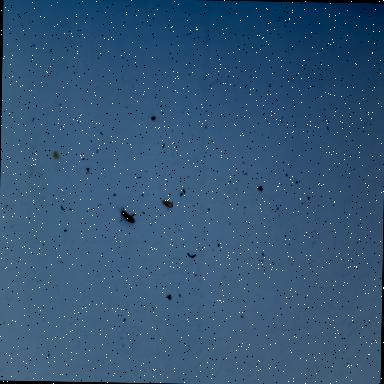pbw: (118, 209, 136, 226), (161, 200, 173, 210)
